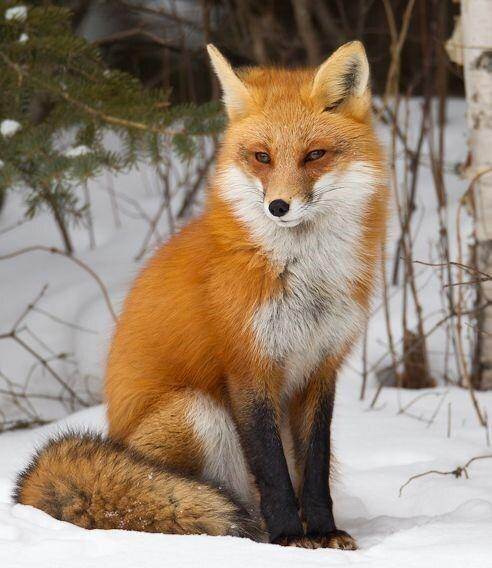fox: (0, 32, 411, 549)
